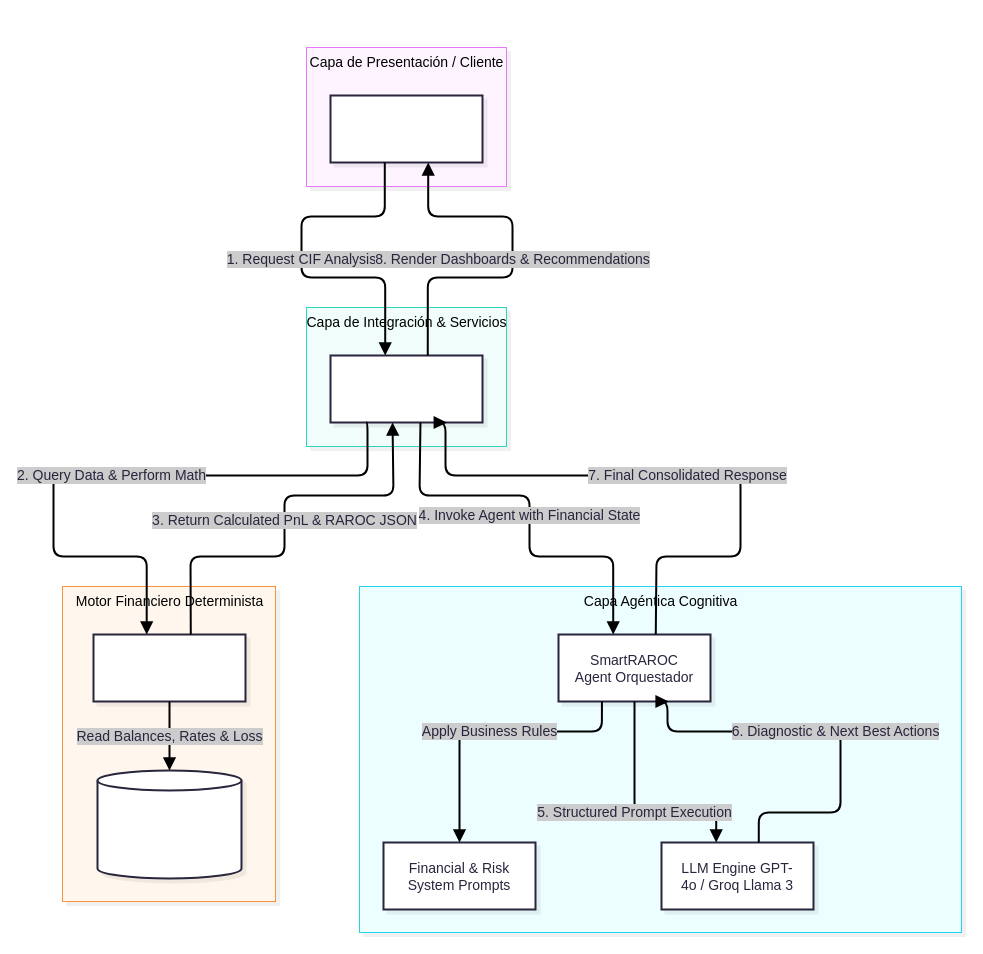
Image size: 983x954. Some labels were removed from this diagram. Each missing label, with the centre of its shape:
DuckDB / Data Store Synthetic CIFs: the point at 171,826
FastAPI Gateway REST Engine: the point at 408,390
RAROC & PnL Calculator Engine: the point at 171,669
Streamlit Web App / Console: the point at 408,130
